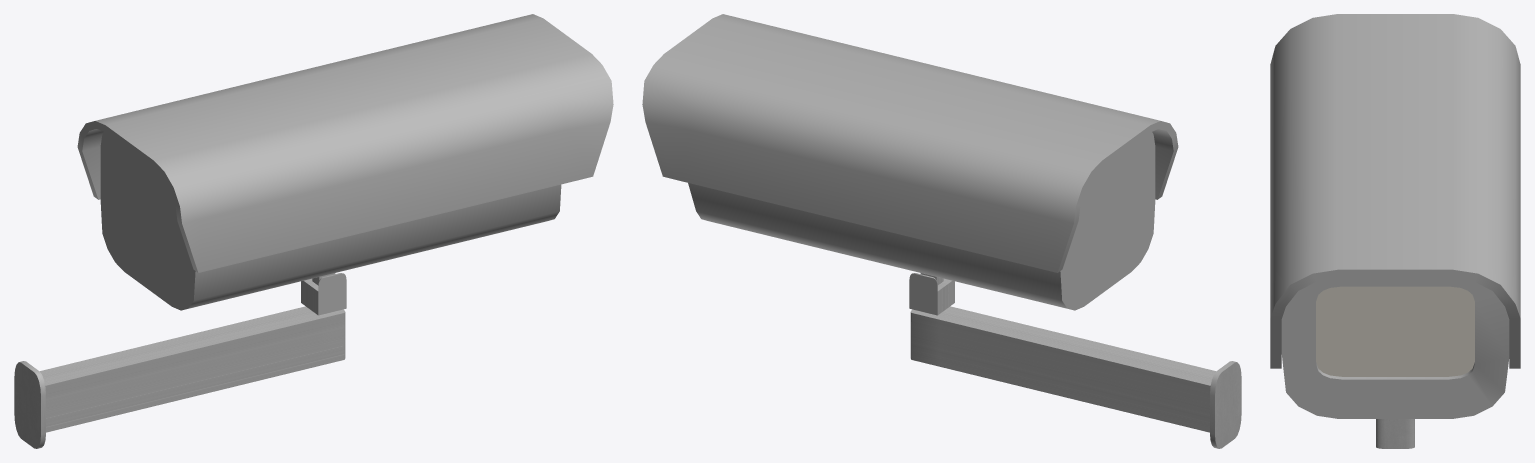
File: camera.fbx
The picture shows the model from 3 angles, left to right: view 1: azimuth 30°, elevation 25°; view 2: azimuth 150°, elevation 25°; view 3: azimuth 270°, elevation 25°; orthographic projection. The views are drawn at different scales.
Visible parts, largest first — view 1: camera_3; view 2: camera_3; view 3: camera_3.
Part boxes in pixels (x1,y1,x2,y2): camera_3: [14, 14, 613, 448]; camera_3: [642, 14, 1241, 448]; camera_3: [1270, 14, 1520, 448].
Bounding box in the file's own units: 32.45 × 15.84 × 10.89.
3 materials, 1 textured.
